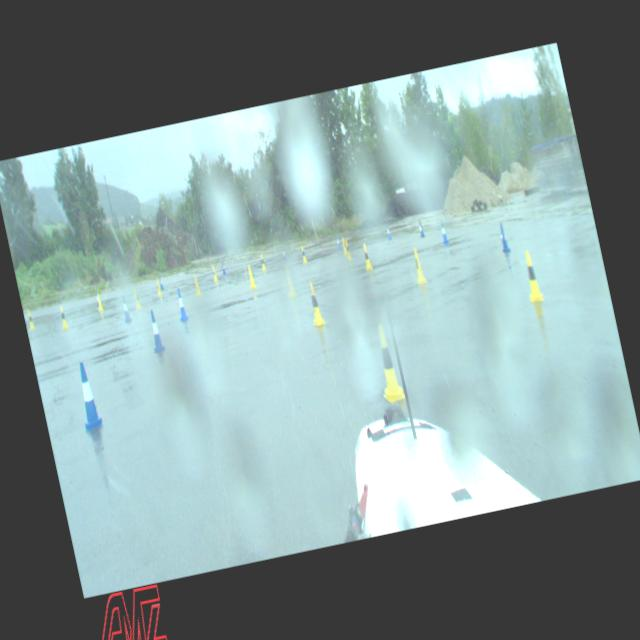blue_cone: (72, 361, 103, 428), (146, 310, 166, 352), (174, 287, 188, 320), (496, 222, 509, 250), (120, 295, 130, 322), (438, 220, 448, 243), (417, 218, 425, 236), (220, 260, 227, 274), (158, 274, 164, 289), (385, 224, 391, 238), (335, 234, 341, 248), (94, 291, 99, 305)
yellow_cone: (368, 322, 404, 402), (520, 249, 544, 302), (306, 280, 326, 326), (410, 248, 427, 285), (282, 266, 294, 296), (58, 305, 68, 329), (361, 244, 371, 268), (246, 264, 256, 288), (26, 310, 35, 330), (192, 276, 201, 296), (132, 288, 140, 310), (344, 238, 352, 260), (300, 245, 308, 263), (96, 292, 104, 310), (258, 254, 266, 270), (154, 278, 162, 294), (211, 264, 218, 282), (341, 238, 346, 254)
